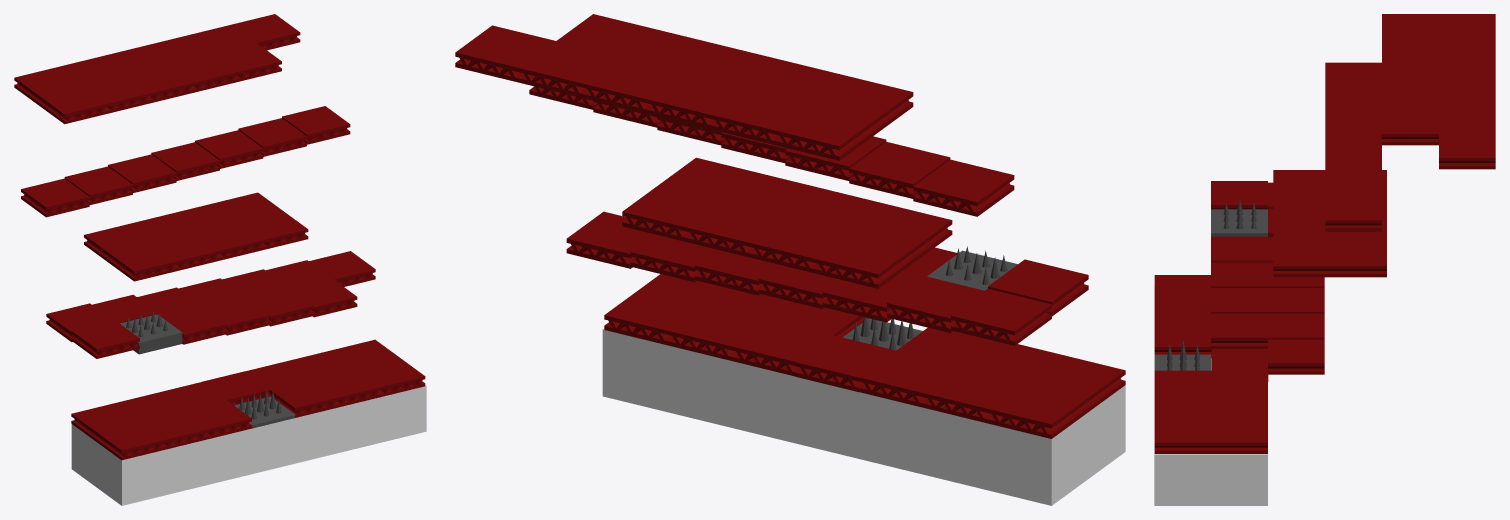
The model's file is Floor.fbx.
3 views of the same model, side by side, from view 1: azimuth 30°, elevation 25°; view 2: azimuth 150°, elevation 25°; view 3: azimuth 270°, elevation 25° (orthographic). The views are drawn at different scales.
Visible parts, largest first — view 1: Cube, FloorBlock.019, FloorBlock.015, FloorBlock.008, FloorBlock.001, FloorBlock.017, FloorBlock.016, FloorBlock.014, FloorBlock.018, FloorBlock.020, FloorBlock.007, ThornBase.003 (+3 smaller); view 2: Cube, FloorBlock.015, FloorBlock.016, FloorBlock.008, FloorBlock.001, FloorBlock.017, FloorBlock.019, FloorBlock.018, FloorBlock.020, FloorBlock.007, FloorBlock.021, ThornBase.003 (+4 smaller); view 3: FloorBlock.019, FloorBlock.001, FloorBlock.015, FloorBlock.016, FloorBlock.017, FloorBlock.014, Cube, FloorBlock.018, FloorBlock.008, FloorBlock.020, ThornBase.003, FloorBlock.007 (+3 smaller).
Part boxes in pixels (x1=…): Cube: x1=71, y1=385, x2=426, y2=505; FloorBlock.019: x1=21, y1=106, x2=350, y2=217; FloorBlock.015: x1=84, y1=192, x2=308, y2=281; FloorBlock.008: x1=71, y1=382, x2=251, y2=460; FloorBlock.001: x1=245, y1=339, x2=425, y2=417; FloorBlock.017: x1=39, y1=43, x2=281, y2=124; FloorBlock.016: x1=14, y1=14, x2=300, y2=105; FloorBlock.014: x1=160, y1=278, x2=357, y2=344; FloorBlock.018: x1=137, y1=251, x2=375, y2=315; FloorBlock.020: x1=46, y1=303, x2=139, y2=358; FloorBlock.007: x1=202, y1=371, x2=269, y2=405; ThornBase.003: x1=120, y1=314, x2=182, y2=354; Cube: x1=602, y1=328, x2=1125, y2=505; FloorBlock.015: x1=622, y1=157, x2=952, y2=288; FloorBlock.016: x1=455, y1=25, x2=876, y2=160; FloorBlock.008: x1=859, y1=327, x2=1125, y2=438; FloorBlock.001: x1=604, y1=274, x2=868, y2=376; FloorBlock.017: x1=557, y1=14, x2=913, y2=133; FloorBlock.019: x1=529, y1=86, x2=1014, y2=216; FloorBlock.018: x1=566, y1=211, x2=917, y2=322; FloorBlock.020: x1=951, y1=259, x2=1088, y2=345; FloorBlock.007: x1=796, y1=335, x2=895, y2=392; FloorBlock.021: x1=887, y1=276, x2=984, y2=332; ThornBase.003: x1=927, y1=250, x2=1017, y2=290; FloorBlock.019: x1=1325, y1=62, x2=1381, y2=231; FloorBlock.001: x1=1154, y1=370, x2=1267, y2=453; FloorBlock.015: x1=1273, y1=170, x2=1386, y2=277; FloorBlock.016: x1=1439, y1=14, x2=1495, y2=169; FloorBlock.017: x1=1382, y1=14, x2=1438, y2=145; FloorBlock.014: x1=1211, y1=236, x2=1267, y2=348; Cube: x1=1154, y1=286, x2=1267, y2=505; FloorBlock.018: x1=1268, y1=236, x2=1324, y2=374; FloorBlock.008: x1=1154, y1=275, x2=1211, y2=357; FloorBlock.020: x1=1211, y1=181, x2=1273, y2=209; ThornBase.003: x1=1211, y1=209, x2=1267, y2=236; FloorBlock.007: x1=1211, y1=349, x2=1268, y2=381.
Bounding box in the file's own units: 1403 × 1351 × 1203.
